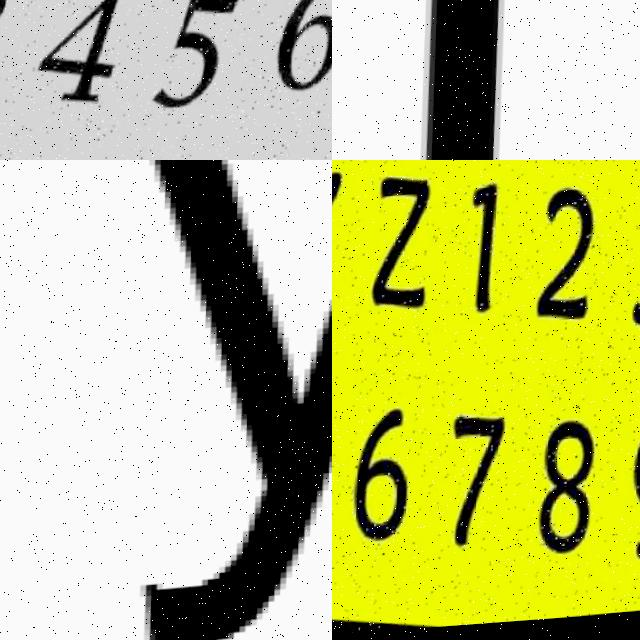1: (444, 169, 536, 334)
2: (510, 161, 635, 349)
3: (609, 179, 640, 349)
4: (29, 0, 140, 124)
5: (147, 0, 252, 131), (332, 373, 367, 555)
6: (332, 383, 450, 573), (266, 0, 332, 114)
7: (426, 394, 537, 564)
8: (514, 400, 628, 583)
9: (606, 404, 640, 591)
L: (405, 0, 530, 160)
Y: (94, 160, 332, 640)
